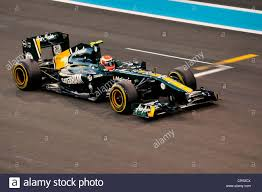FormulaOneCar: (8, 28, 227, 122)
